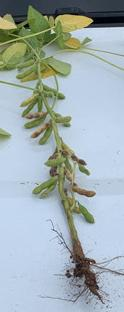soja: (31, 176, 57, 196), (16, 101, 45, 117), (45, 81, 68, 101), (79, 203, 97, 228), (36, 124, 54, 146), (23, 117, 51, 130), (62, 140, 81, 159), (16, 66, 39, 81), (73, 185, 99, 198), (41, 186, 58, 203), (23, 93, 41, 108), (68, 198, 81, 215), (44, 159, 66, 169), (25, 110, 49, 119), (78, 164, 94, 177), (69, 156, 91, 165), (54, 115, 72, 125), (48, 151, 60, 163), (64, 170, 74, 184), (43, 92, 55, 101), (63, 123, 74, 132)
